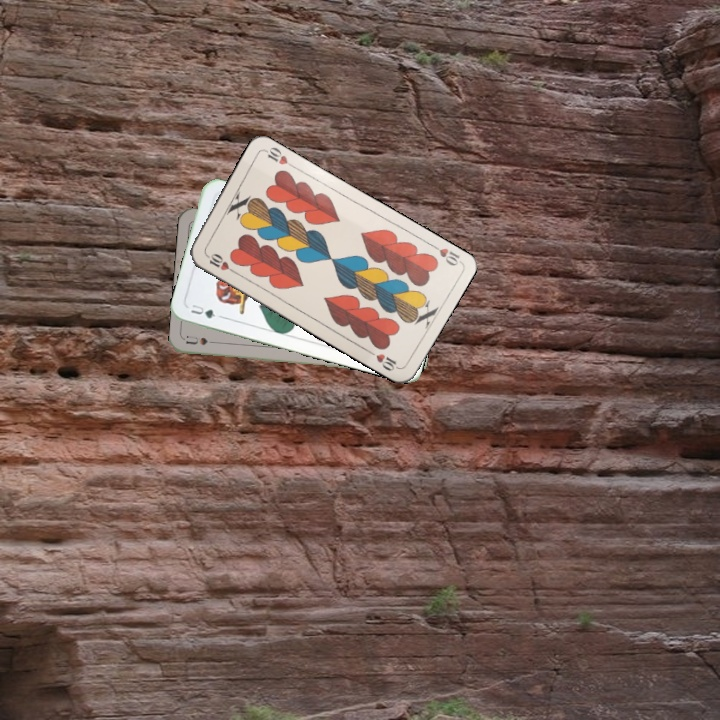GU: (187, 300, 218, 321)
H10: (426, 239, 463, 269), (201, 249, 238, 276)
SU: (183, 332, 224, 347)
